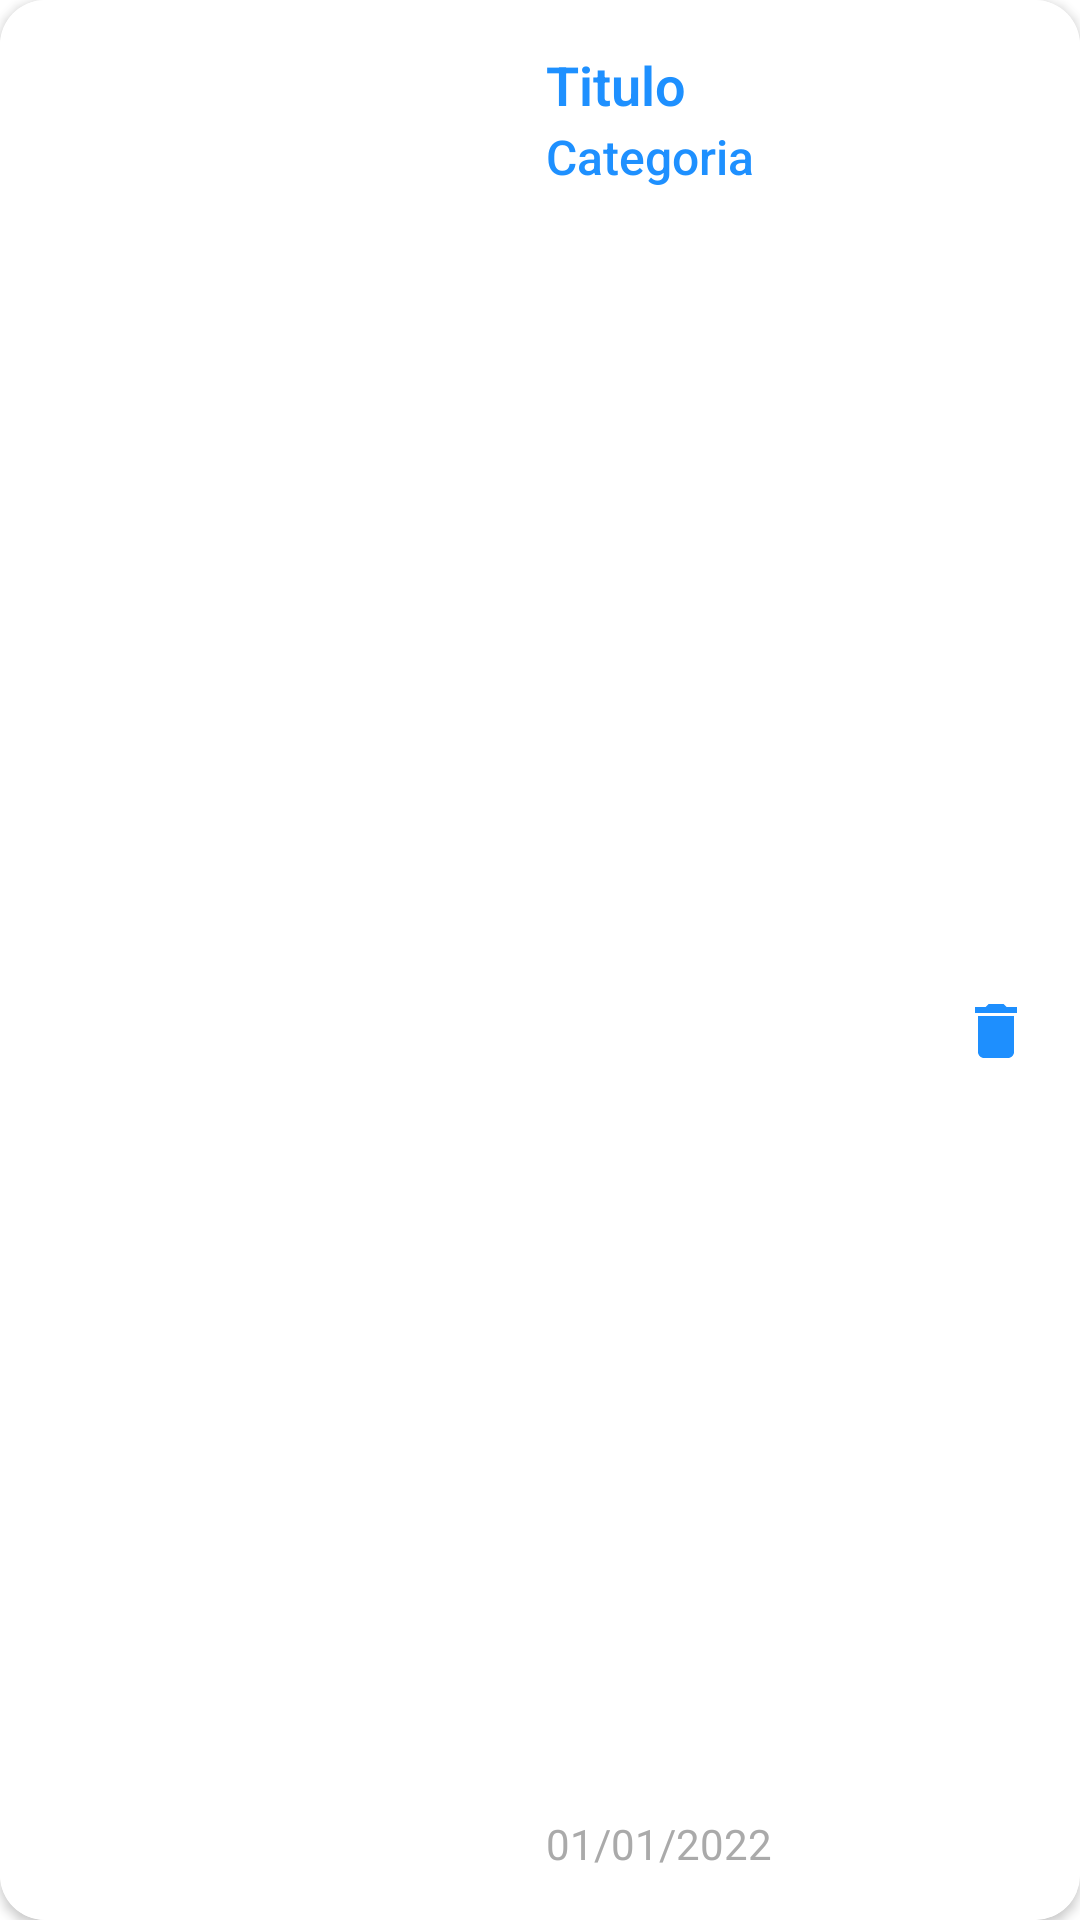

Point at icon controls on the screen. Image size 1080 x 1920, points as point (x, y).
delete: point (996, 1031)
